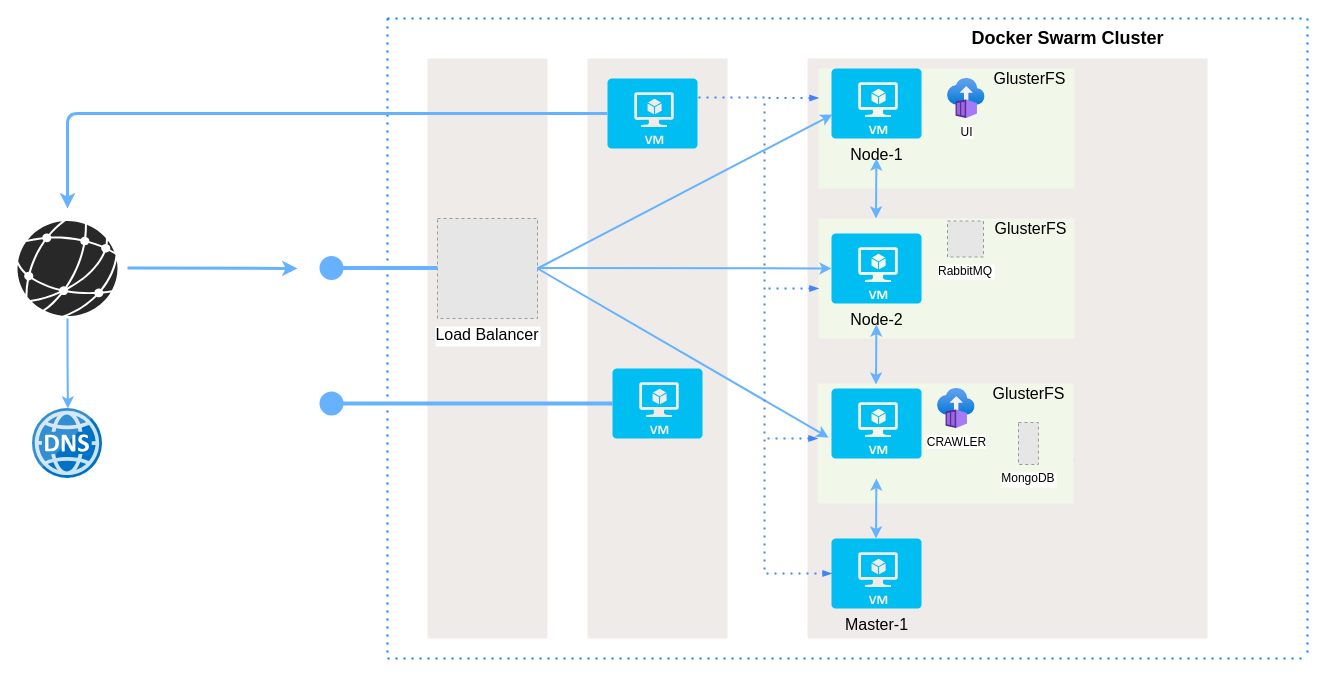
Some shapes in this 1326 by 677 pixel diagram are drawn without their labels. Grey dashed boxes stand in for pictures. Each missing label, with the box of its shape:
Bastion (Jumpbox): (612, 368, 702, 438)
NAT-VM: (607, 78, 697, 148)
Node-3: (831, 388, 921, 458)
